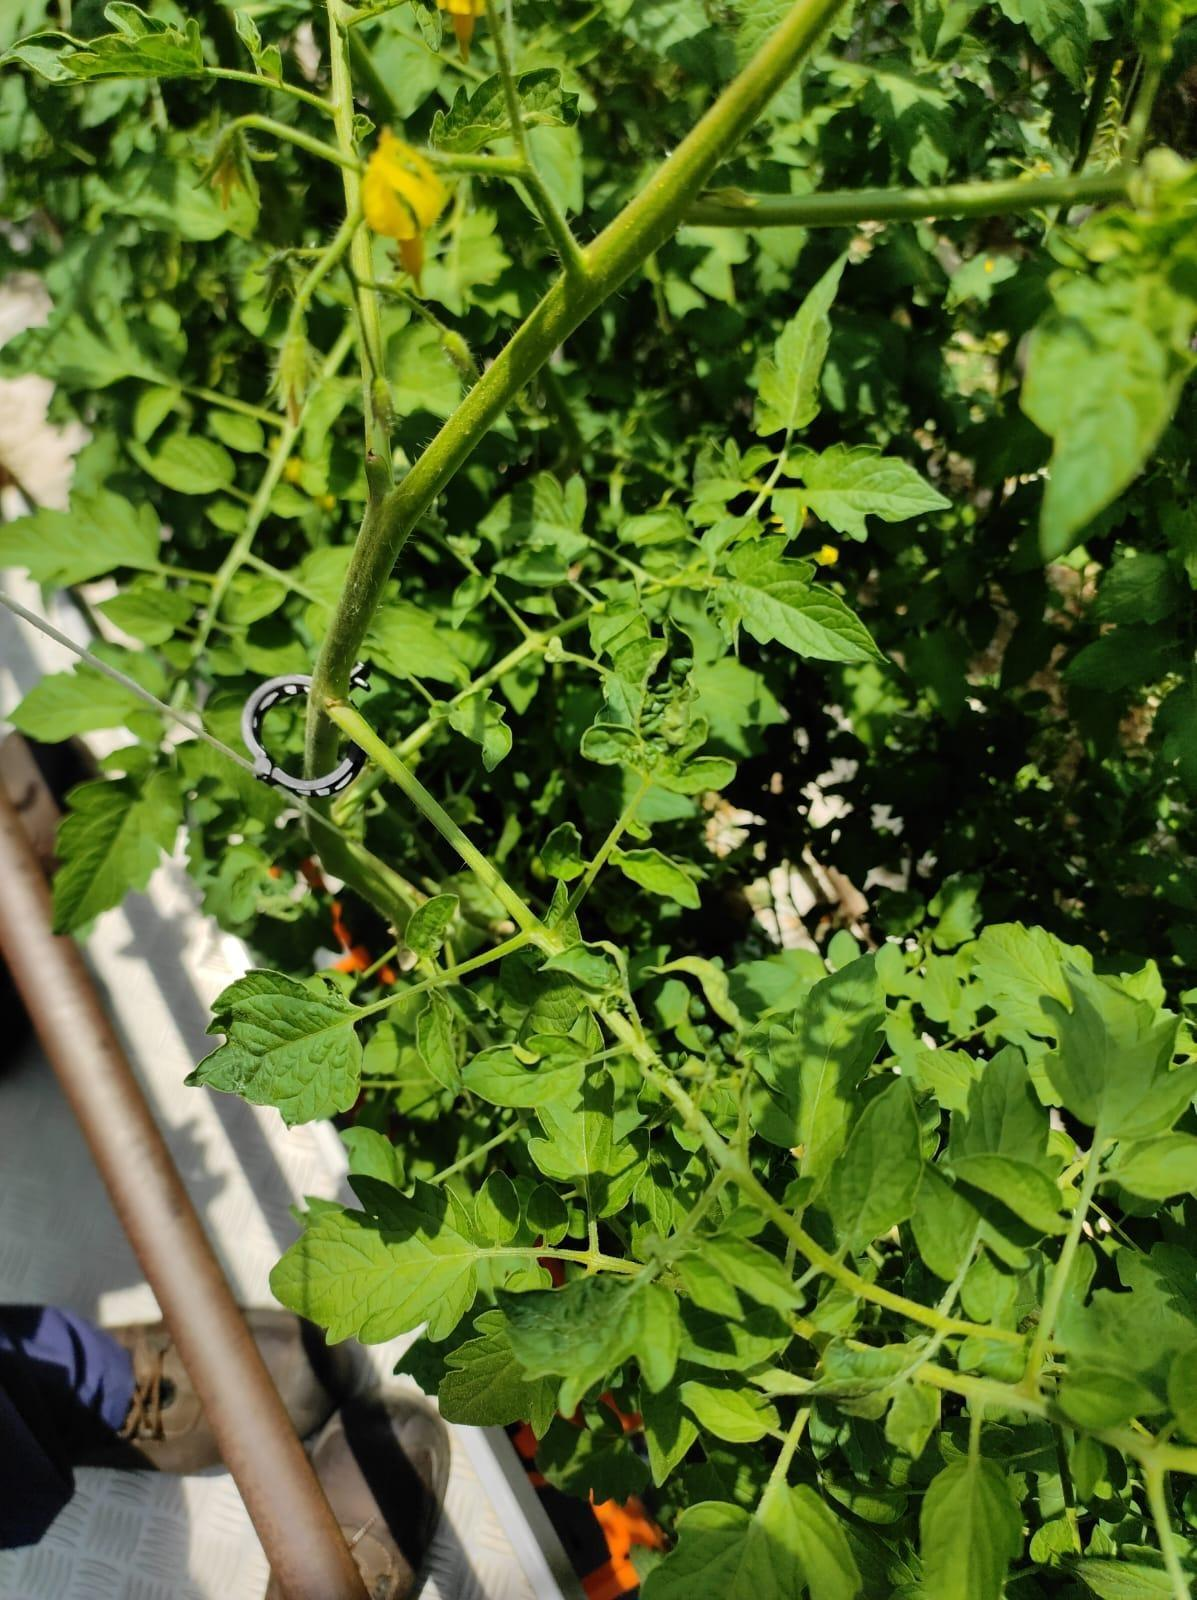Hoja: (274, 1203, 477, 1338), (52, 745, 190, 929), (196, 975, 362, 1122), (723, 533, 877, 660), (531, 1060, 650, 1219), (762, 446, 950, 530), (756, 270, 838, 432)
Pedunculo: (321, 0, 844, 697), (332, 705, 565, 1017)
